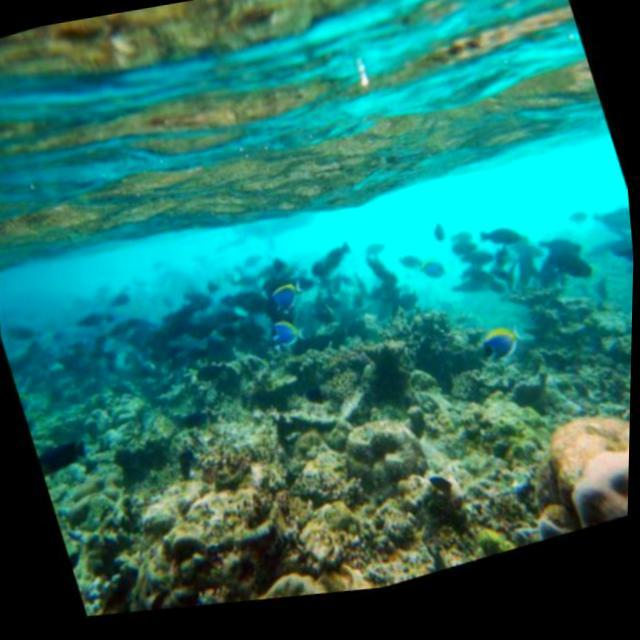Dead Coral: (13, 196, 636, 638)
